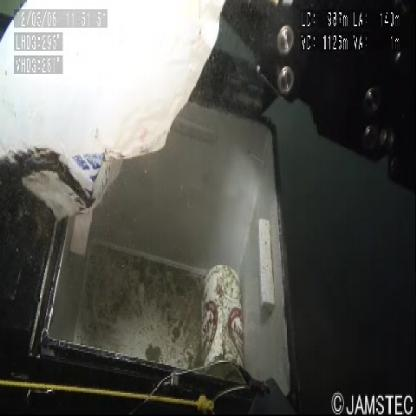Rov: (218, 1, 416, 205)
Rác: (1, 1, 243, 168)
